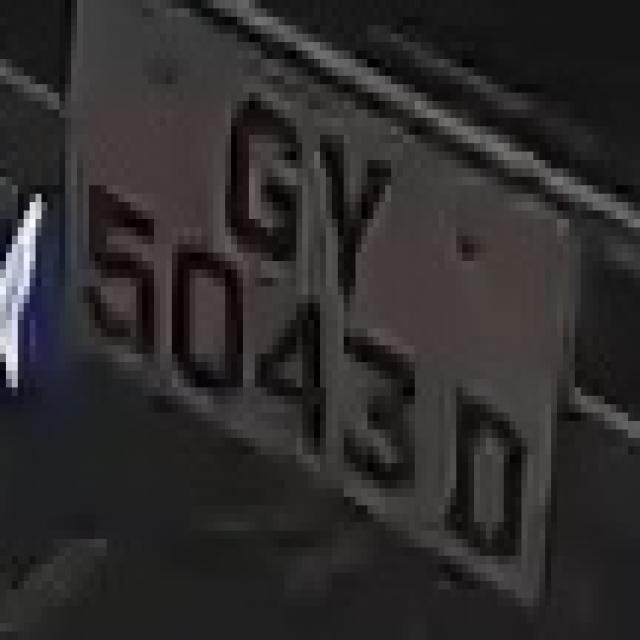0: (166, 219, 243, 413)
3: (344, 311, 426, 497)
4: (237, 236, 338, 446)
5: (77, 134, 154, 370)
D: (444, 353, 540, 572)
G: (213, 68, 308, 286)
Y: (314, 93, 397, 320)
